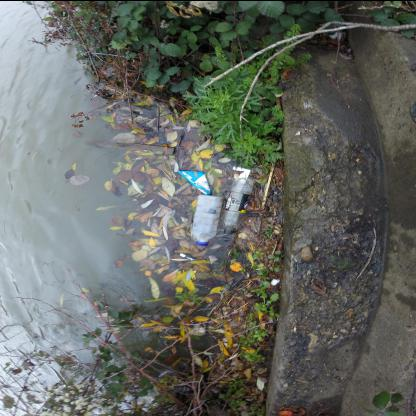plastik: (223, 176, 254, 235), (190, 193, 224, 245), (177, 169, 211, 194)
